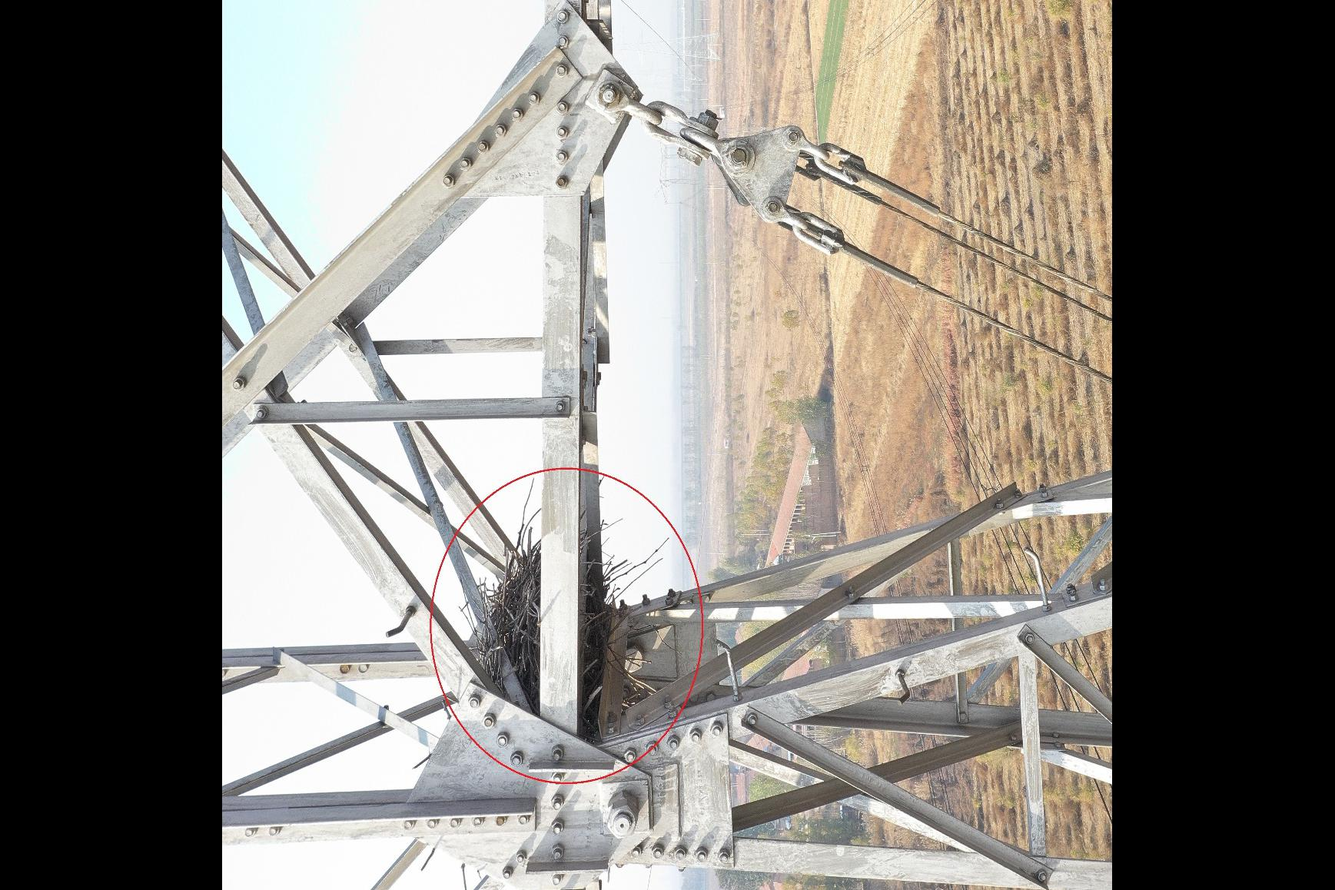nest: (463, 526, 656, 749)
